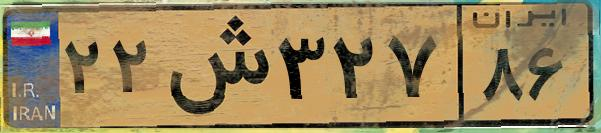2: (330, 28, 385, 110), (57, 26, 110, 100), (110, 28, 158, 98)
3: (270, 28, 330, 110)
6: (525, 38, 570, 115)
7: (385, 28, 445, 110)
8: (475, 38, 525, 113)
ش: (158, 12, 270, 120)
